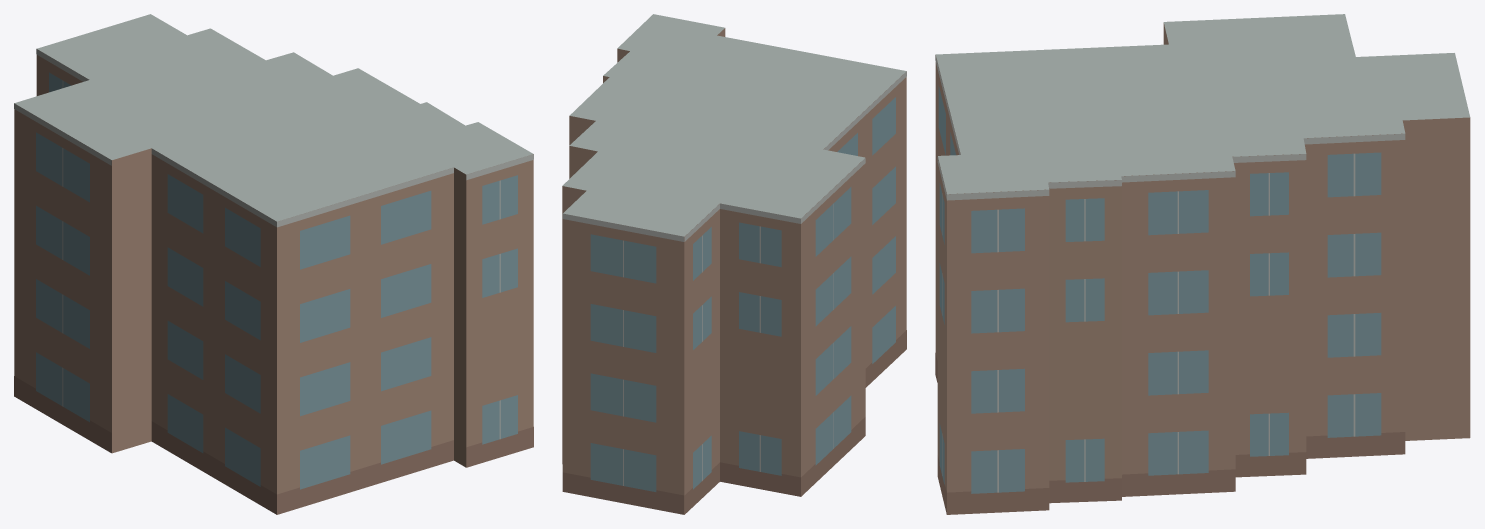
File: survey-upis-32925455.glb
The picture shows the model from 3 angles, left to right: view 1: azimuth 30°, elevation 25°; view 2: azimuth 150°, elevation 25°; view 3: azimuth 270°, elevation 25°; orthographic projection. The views are drawn at different scales.
Parts seen in each view (by area): view 1: survey-upis-32925455.tmp; view 2: survey-upis-32925455.tmp; view 3: survey-upis-32925455.tmp.
Boxes of the visible parts, x1,y1,x2,y2 form: survey-upis-32925455.tmp: (14,14,533,514); survey-upis-32925455.tmp: (562,14,906,514); survey-upis-32925455.tmp: (935,14,1470,514).
Size of the model in its own units: 15 by 12.44 by 18.81.
